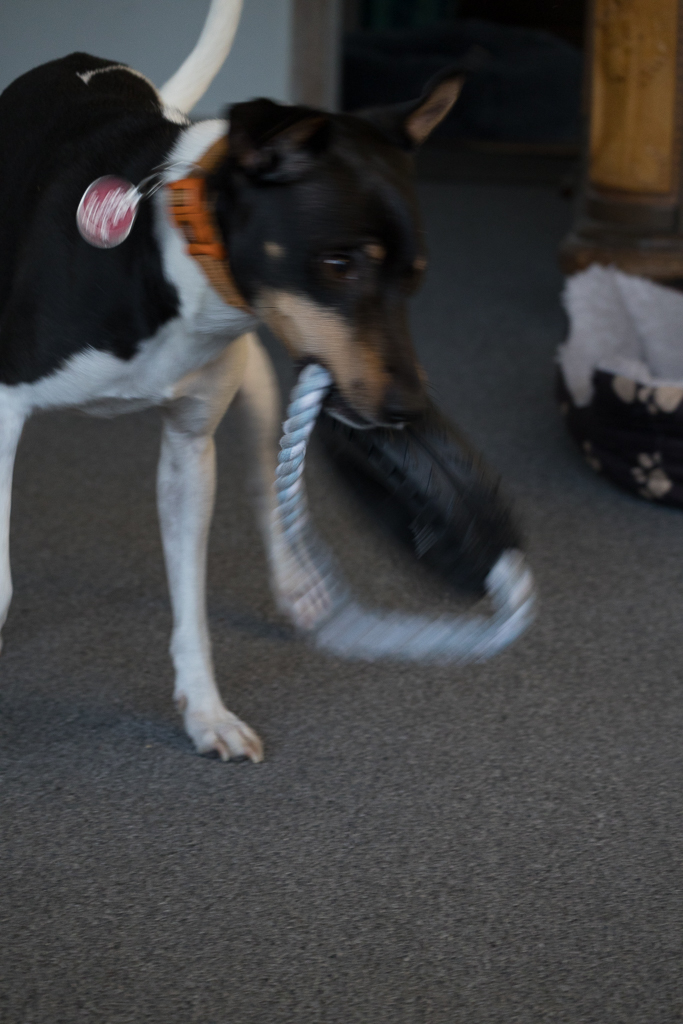Dog: (0, 0, 485, 775)
